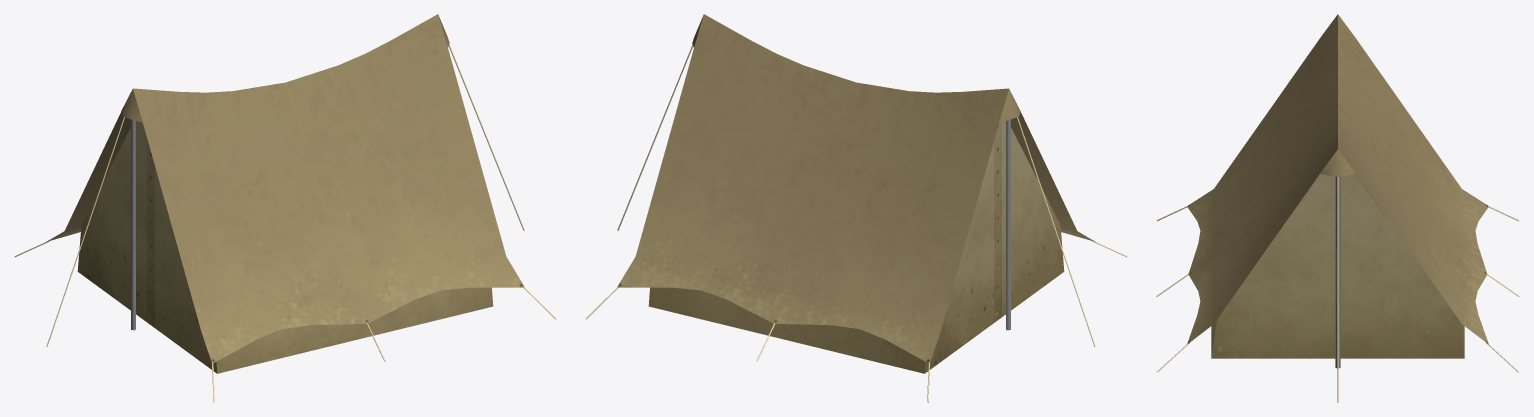
The model's file is tent.glb.
3 views of the same model, side by side, from view 1: azimuth 30°, elevation 25°; view 2: azimuth 150°, elevation 25°; view 3: azimuth 270°, elevation 25° (orthographic). The views are drawn at different scales.
Parts seen in each view (by area): view 1: Object001; view 2: Object001; view 3: Object001.
Part boxes in pixels (box(x1,y1,x2,y2)): Object001: box(14, 14, 556, 402); Object001: box(585, 14, 1127, 402); Object001: box(1156, 14, 1519, 402).
Size of the model in its own units: 31.76 by 15.3 by 23.03.
Materials: 1 (1 with a texture image).
